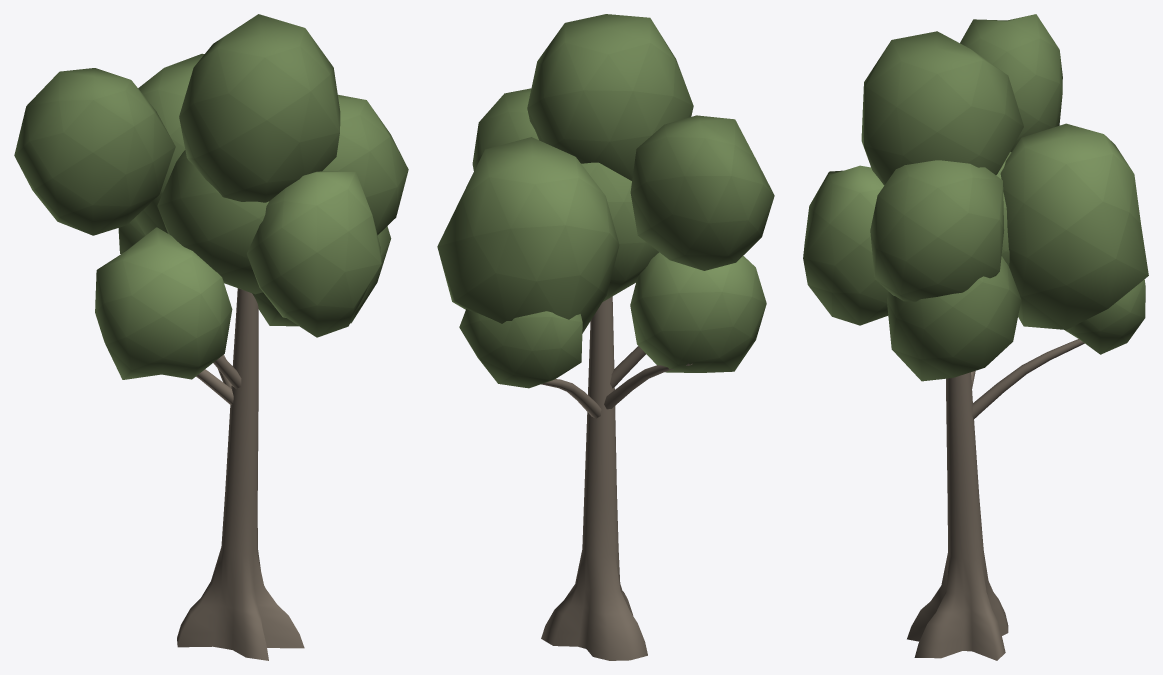
File: decid_a.glb
3 views of the same model, side by side, from view 1: azimuth 30°, elevation 25°; view 2: azimuth 150°, elevation 25°; view 3: azimuth 270°, elevation 25° (orthographic). The views are drawn at different scales.
Parts seen in each view (by area): view 1: decid_a; view 2: decid_a; view 3: decid_a.
Part boxes in pixels (left/top/right/bottom): decid_a: left=14, top=14, right=408, bottom=660; decid_a: left=437, top=14, right=774, bottom=660; decid_a: left=803, top=14, right=1148, bottom=660.
Size of the model in its own units: 4.56 by 8.17 by 4.31.
